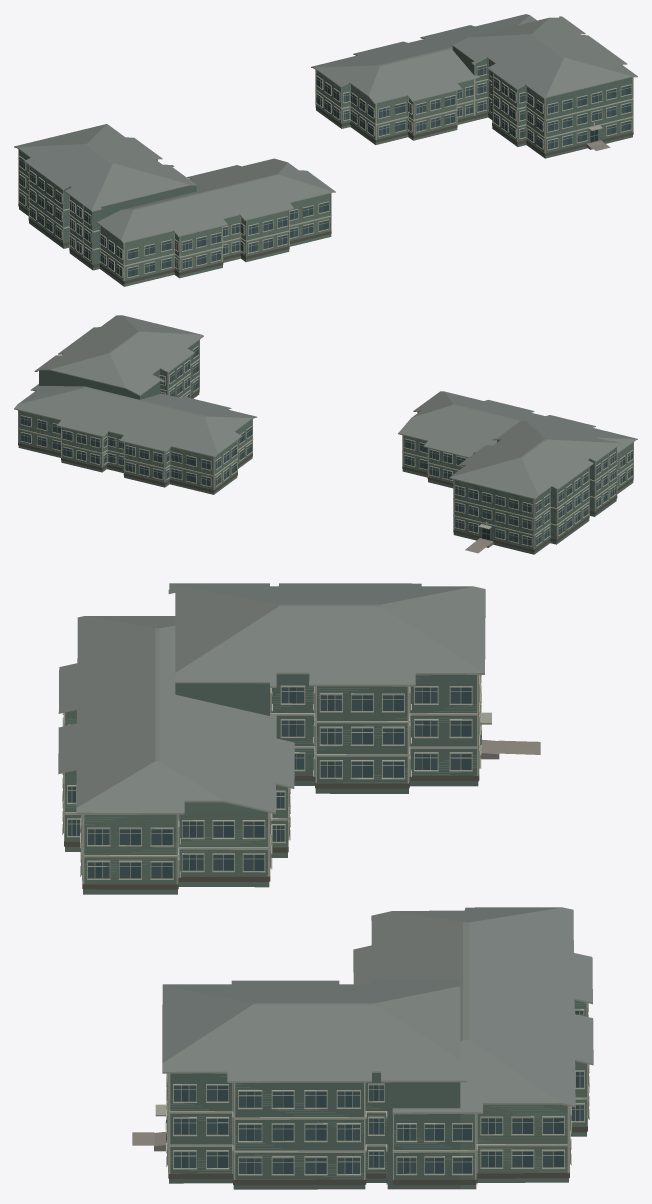
File: site.glb
The picture shows the model from 3 angles, top to bottom: view 1: azimuth 30°, elevation 25°; view 2: azimuth 150°, elevation 25°; view 3: azimuth 270°, elevation 25°; orthographic projection. The views are drawn at different scales.
Parts seen in each view (by area): view 1: roof-311b157f, roof-03ecaaba; view 2: roof-03ecaaba, roof-311b157f; view 3: roof-311b157f, roof-03ecaaba, graduate-village-approaches.
Boxes of the visible parts, x1,y1,x2,y2 form: roof-311b157f: [14, 124, 335, 286]; roof-03ecaaba: [311, 14, 637, 158]; roof-03ecaaba: [14, 315, 257, 494]; roof-311b157f: [398, 391, 637, 554]; roof-311b157f: [58, 583, 491, 894]; roof-03ecaaba: [155, 907, 593, 1189]; graduate-village-approaches: [132, 739, 540, 1151].
Size of the model in its own units: 96.9 by 13 by 43.79.
